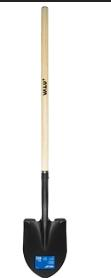PELLE: (14, 7, 92, 278)
